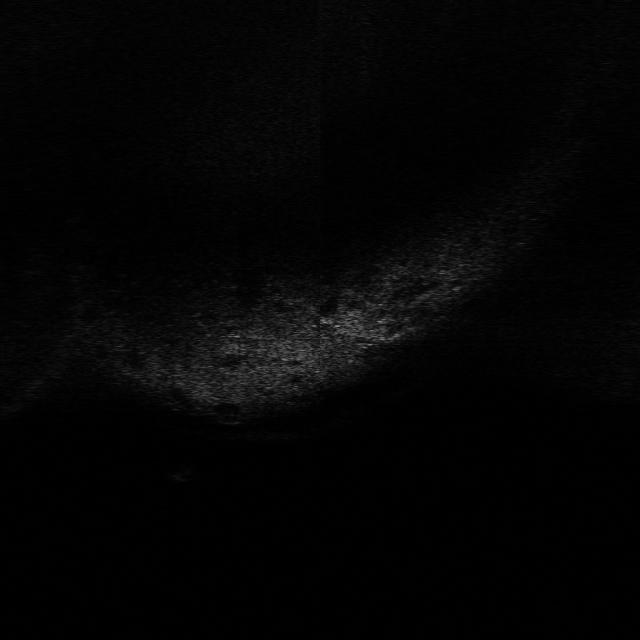cylinder: (164, 461, 197, 482)
